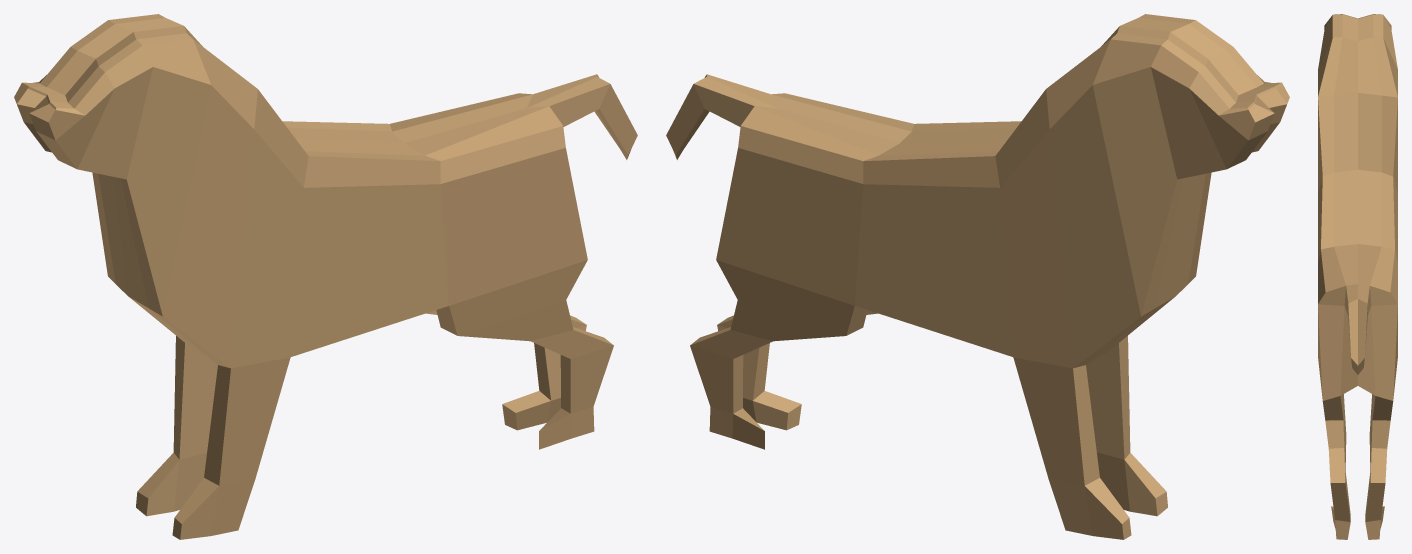
File: dog.glb
3 renders of one model, left to right at view 1: azimuth 30°, elevation 25°; view 2: azimuth 150°, elevation 25°; view 3: azimuth 270°, elevation 25°, orthographic. The views are drawn at different scales.
Visible parts, largest first — view 1: Plane; view 2: Plane; view 3: Plane.
Boxes of the visible parts, x1=… form: Plane: x1=14, y1=14, x2=637, y2=539; Plane: x1=666, y1=14, x2=1289, y2=539; Plane: x1=1318, y1=14, x2=1397, y2=539.
Bounding box in the file's own units: 2.08 × 1.65 × 0.3241.
